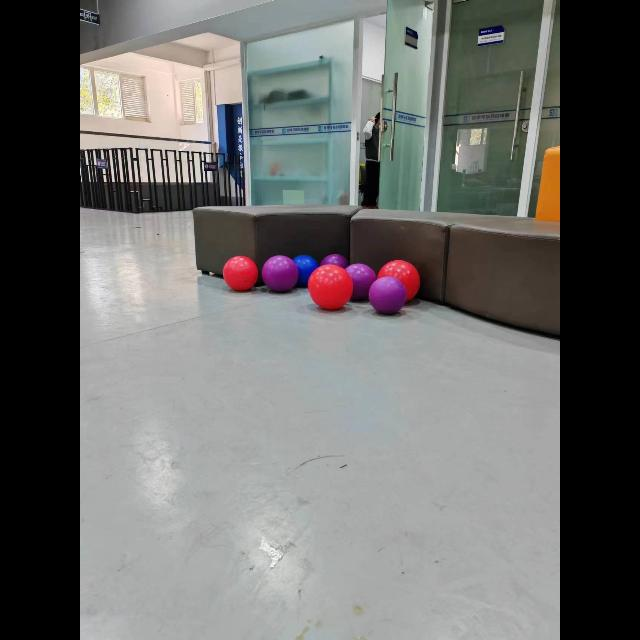B: (294, 255, 319, 286)
P: (369, 276, 406, 314), (261, 255, 299, 291), (345, 264, 376, 299), (320, 254, 349, 269)
R: (308, 265, 354, 310), (378, 260, 420, 301), (222, 255, 258, 291)
